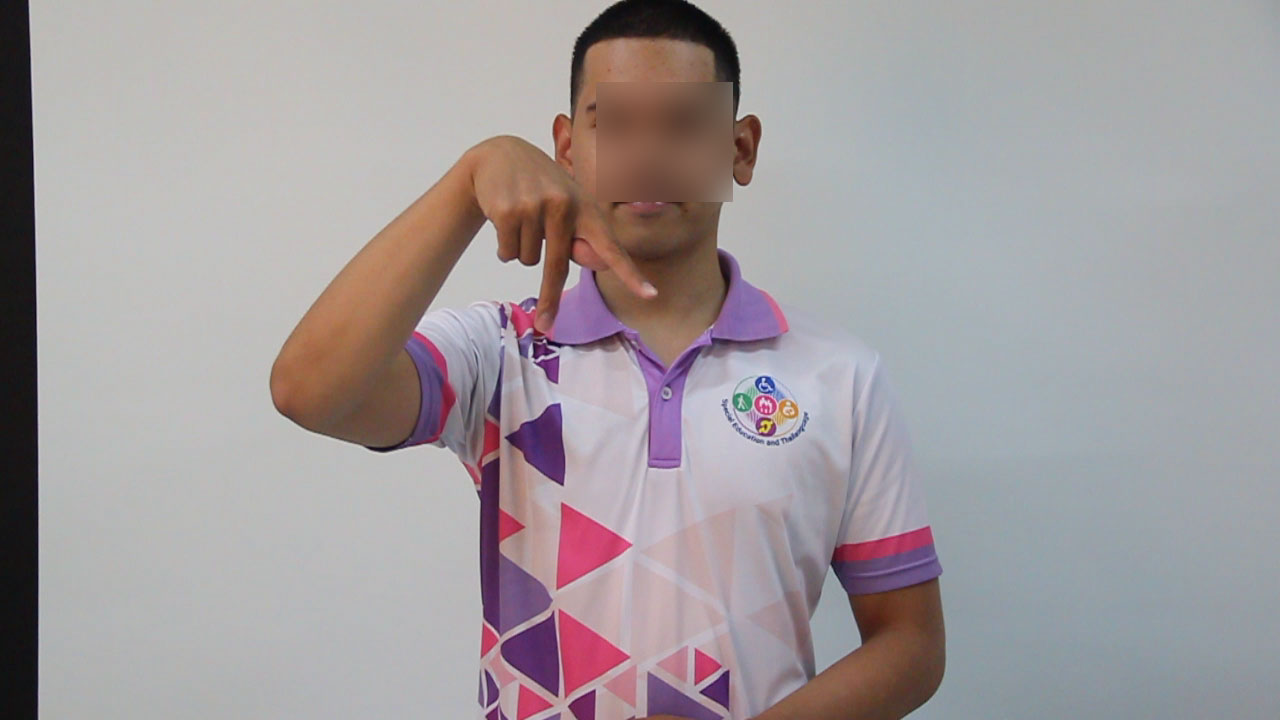por: (450, 100, 674, 348)
